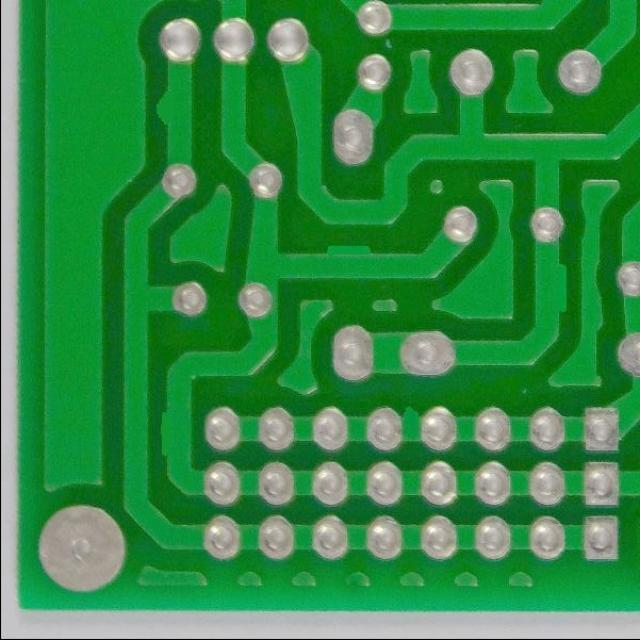spur: (544, 256, 572, 322), (312, 243, 380, 270), (390, 397, 430, 442), (155, 408, 180, 464), (150, 89, 177, 134)
